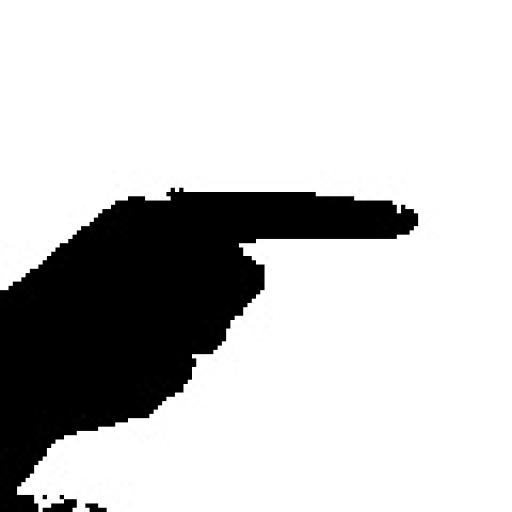index_right: (0, 186, 419, 391)
